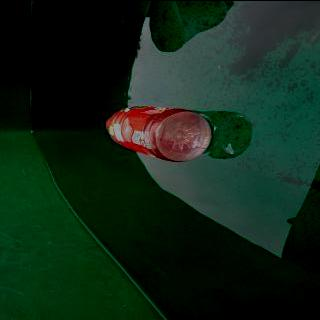bottle: (104, 104, 213, 160)
